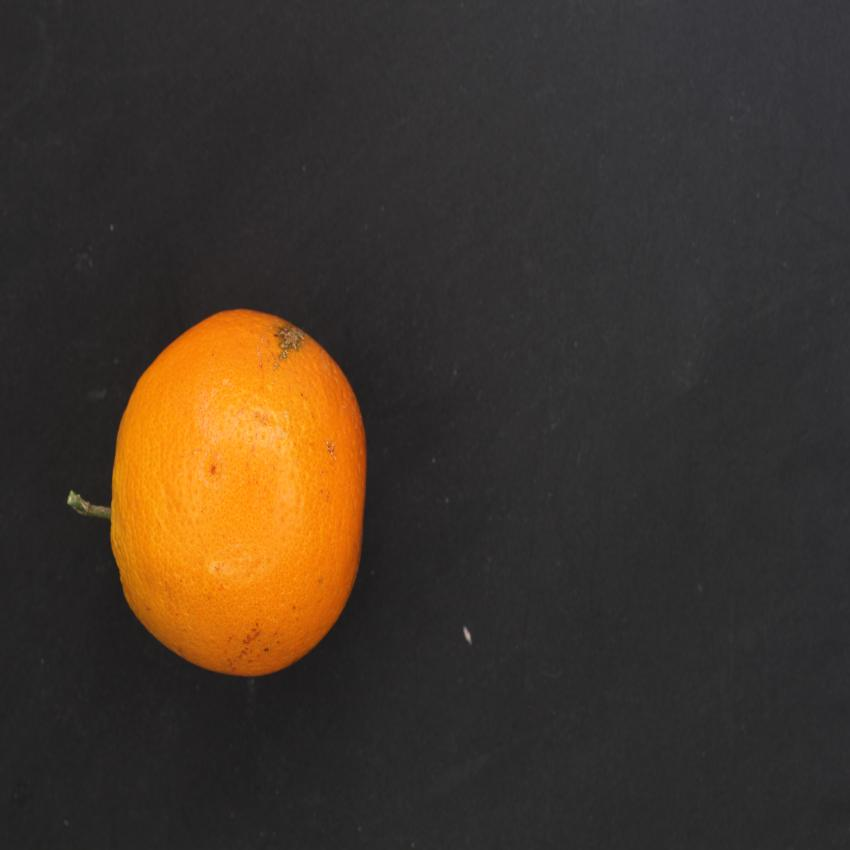Buen estado: (95, 297, 392, 688)
